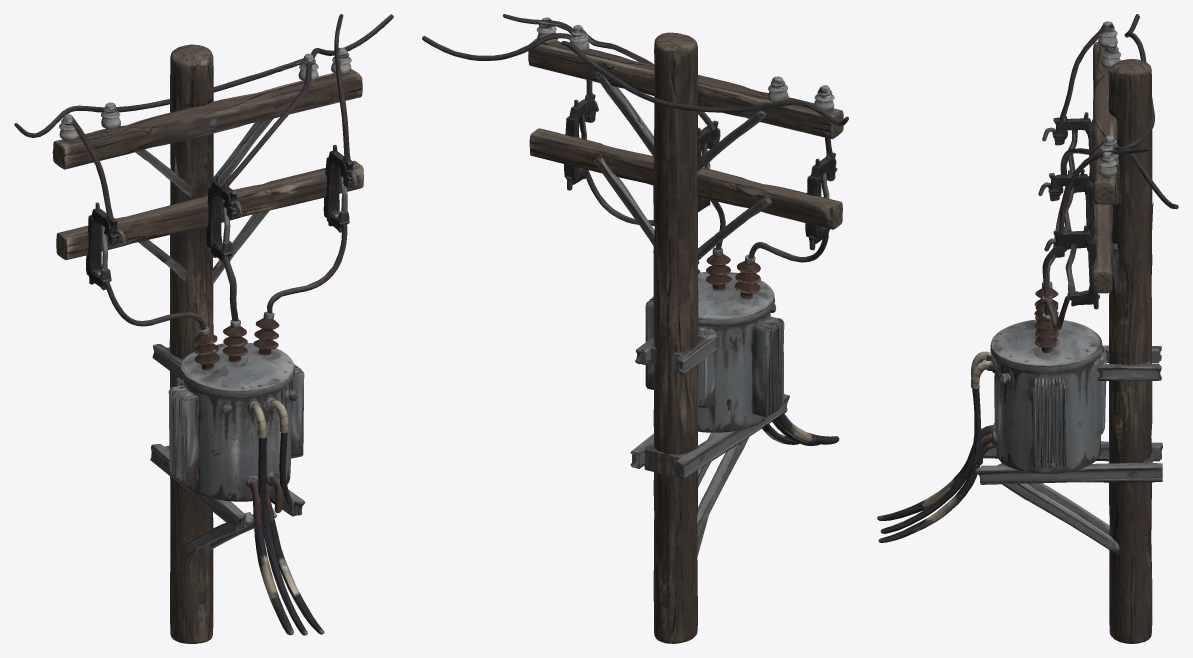
Rendered from pole_transformer.glb.
3 renders of one model, left to right at view 1: azimuth 30°, elevation 25°; view 2: azimuth 150°, elevation 25°; view 3: azimuth 270°, elevation 25°, orthographic. The views are drawn at different scales.
Size of the model in its own units: 1.35 by 1.9 by 0.9064.
1 material, 1 textured.
